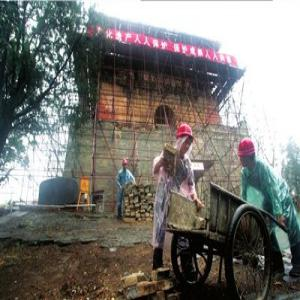red: (238, 137, 258, 172), (177, 124, 195, 158), (122, 159, 129, 170)
